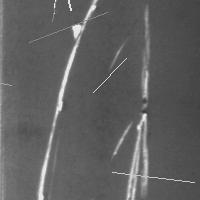scratches: (35, 1, 97, 198), (112, 5, 151, 198), (24, 7, 112, 47), (88, 53, 131, 97), (107, 167, 199, 187), (47, 0, 68, 26), (55, 0, 76, 15), (0, 74, 16, 90), (49, 0, 62, 18)
